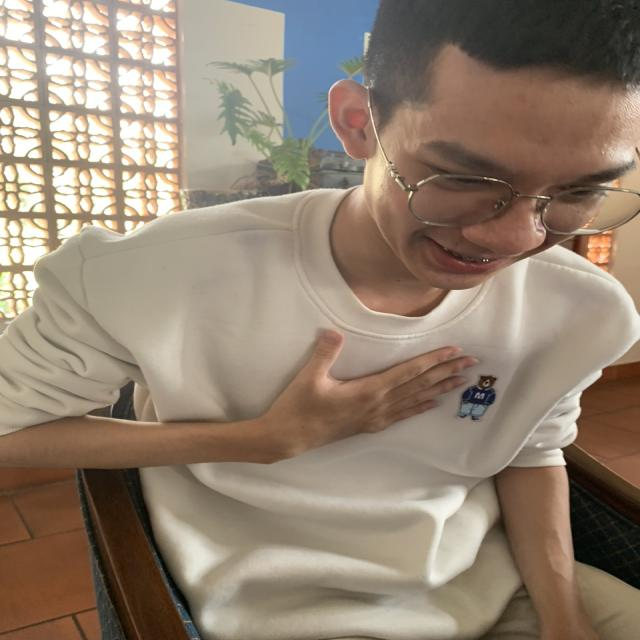please: (260, 304, 493, 493)
